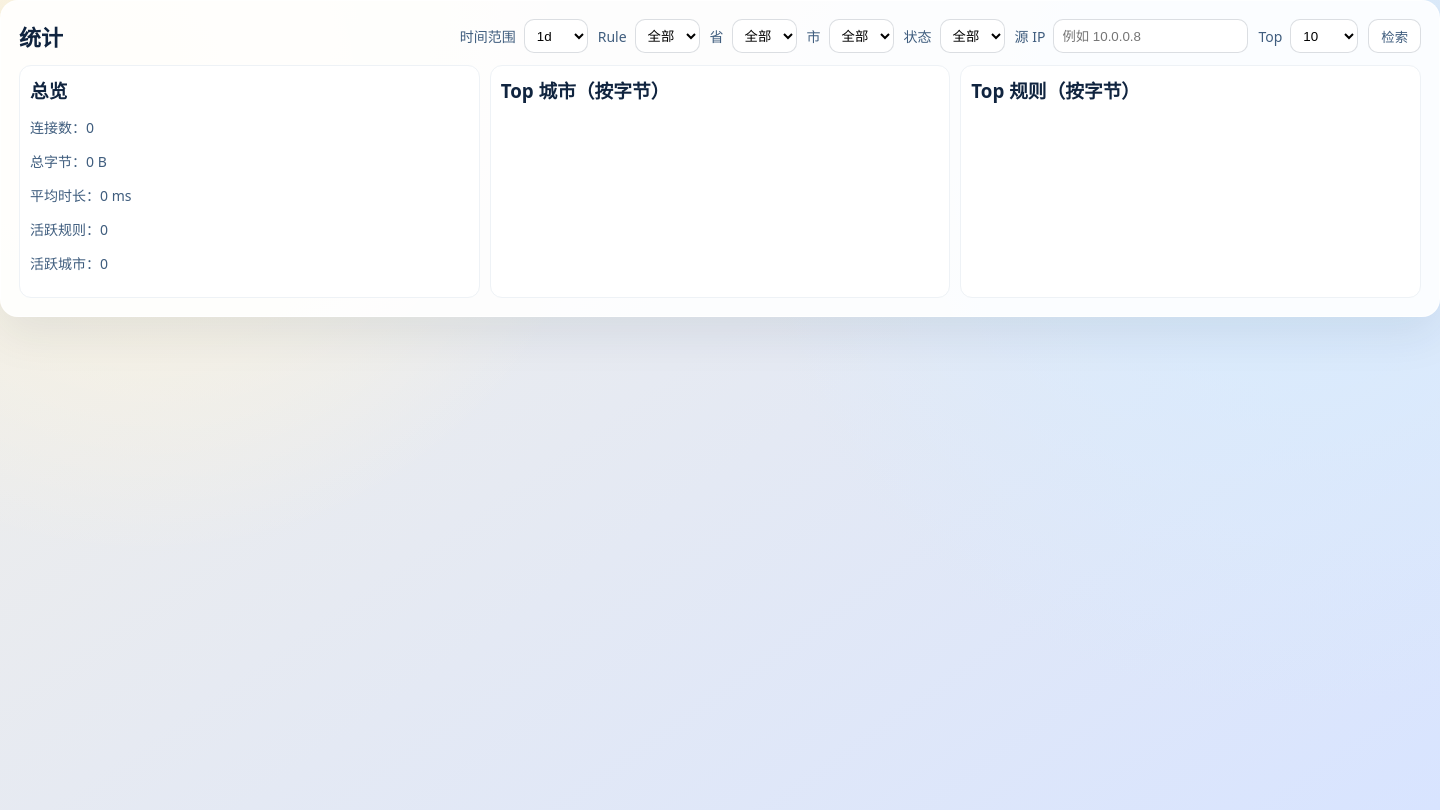
Test case: AnalyticsPage › clears previous results when a new search fails
The width and height of the screenshot is (1440, 810).
Step 1. Click the button "检索" → (1395, 36), box x1=1368 y1=19 x2=1421 y2=53
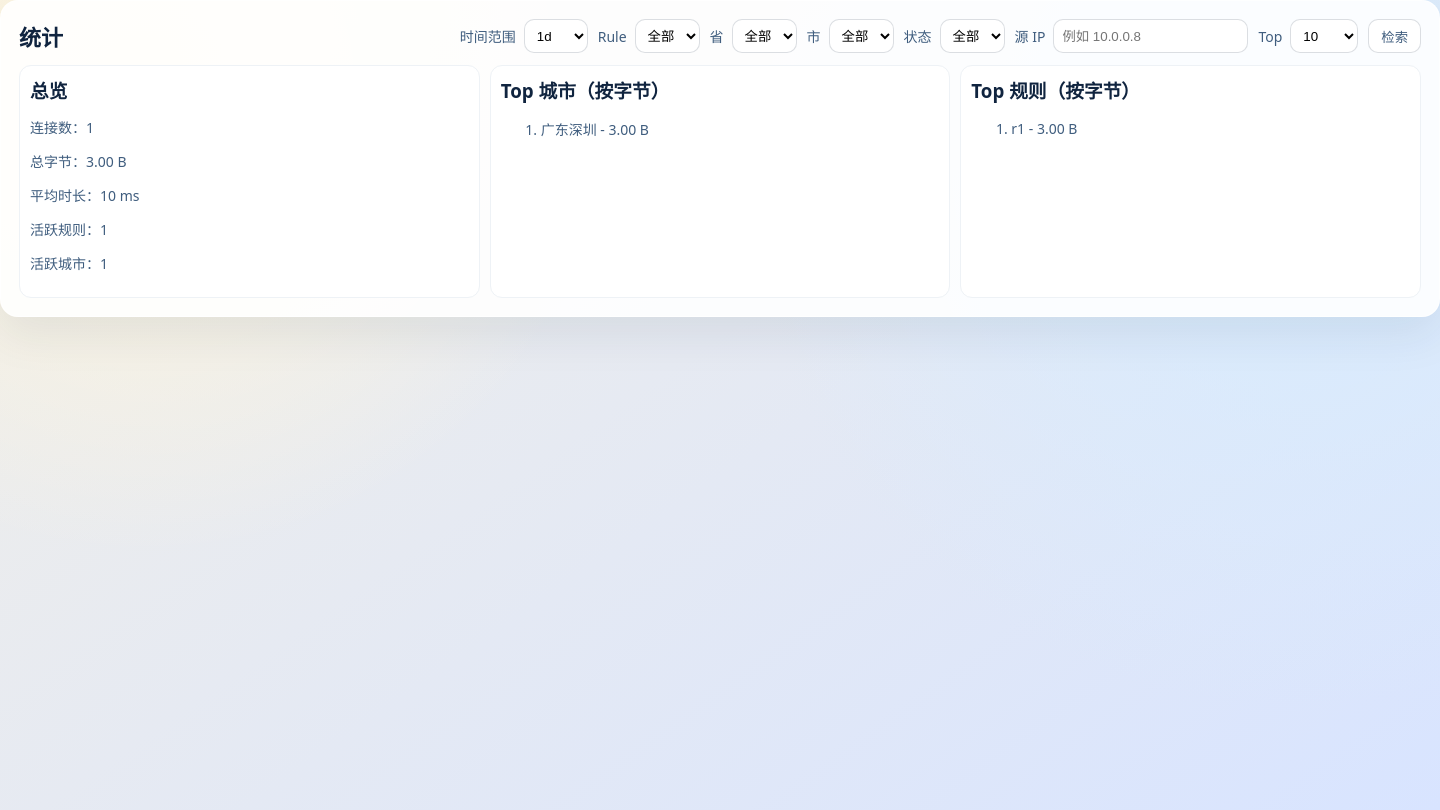
Now the text "连接数：1" is shown, box x1=30 y1=118 x2=94 y2=137
Step 2. Click the button "检索" → (1395, 36), box x1=1368 y1=19 x2=1421 y2=53
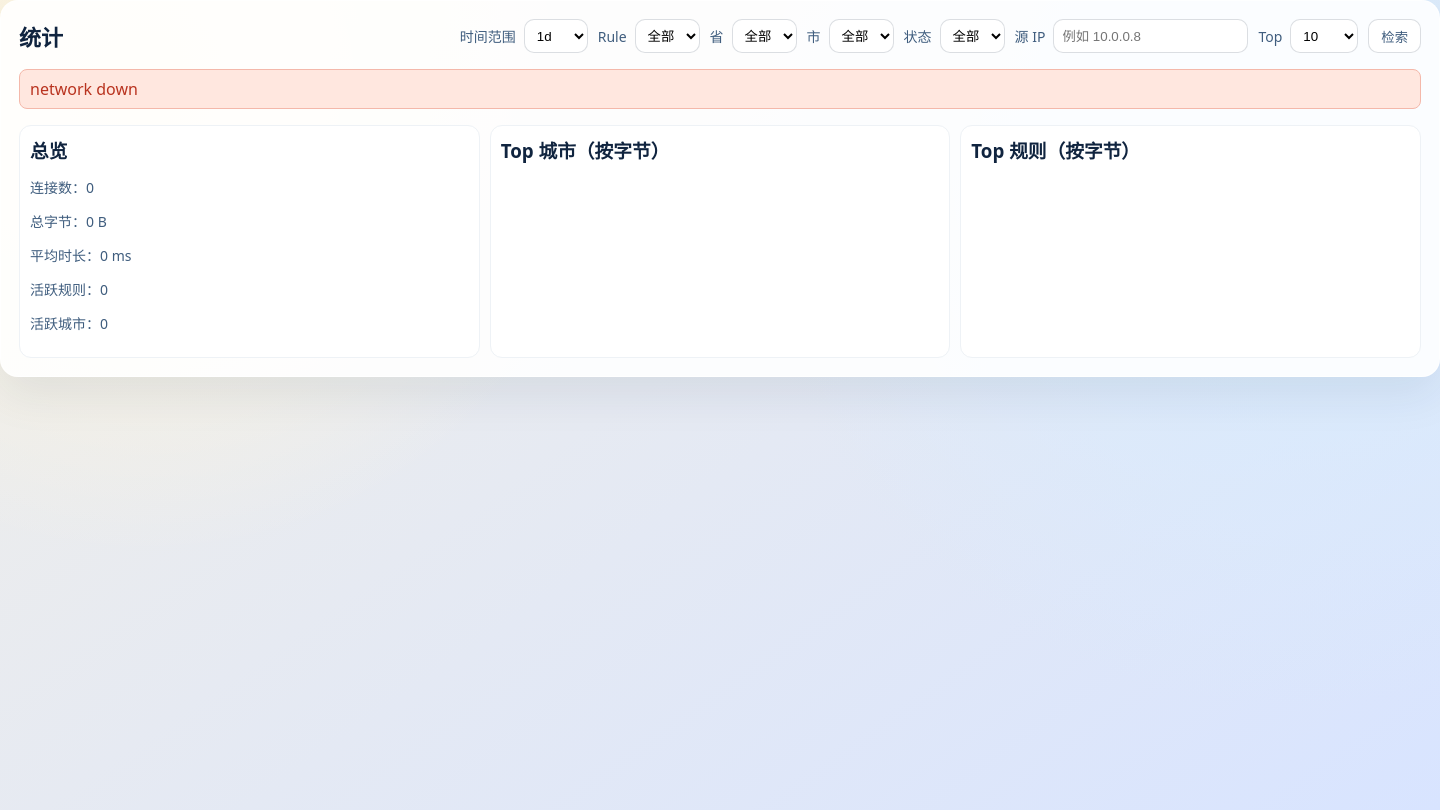
Now the text "network down" is shown, box x1=19 y1=69 x2=1421 y2=109
Now the text "连接数：0" is shown, box x1=30 y1=178 x2=94 y2=197
